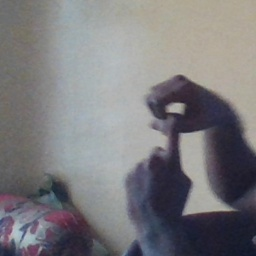Q: (120, 75, 222, 201)
